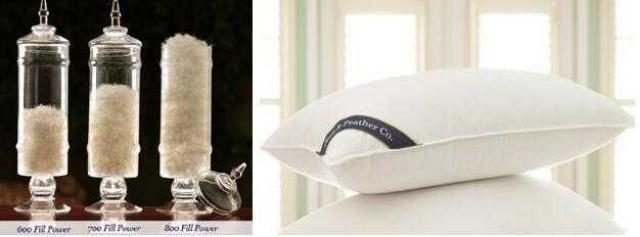pillow: (260, 65, 634, 194)
